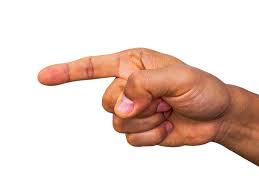hand: (20, 35, 235, 170)
